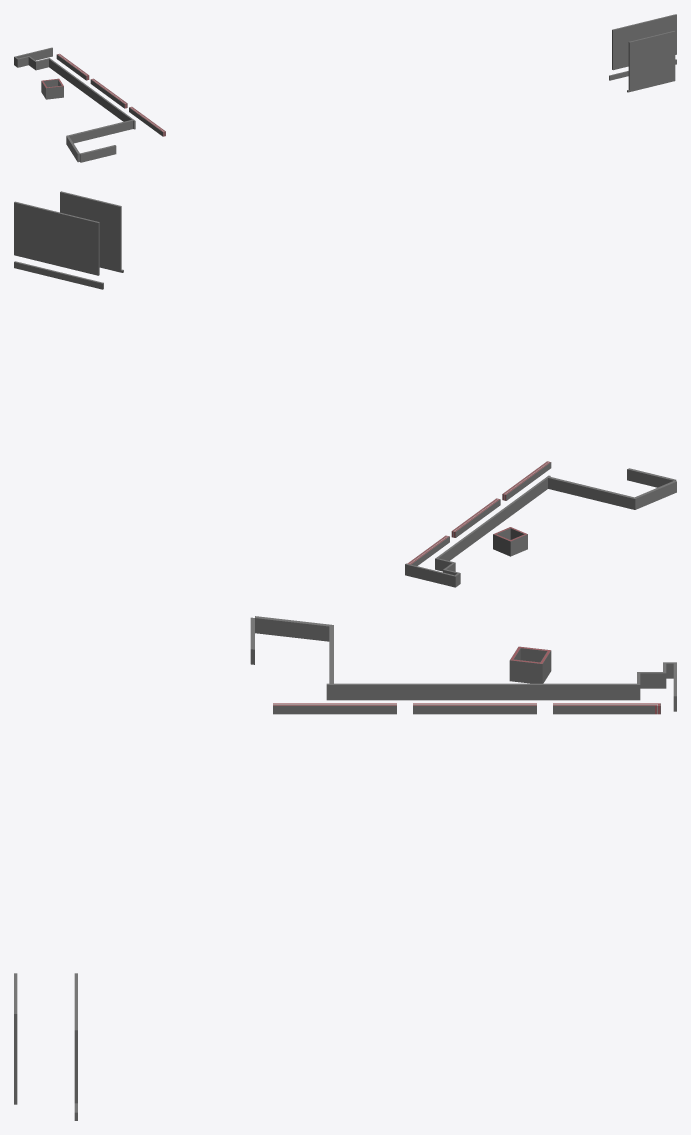
Rendered from Building Model - Excavation and Trench - updated_1kn71nZ$z5OvtVVlfMp9Tn-Nível 0_IfcWallStandardCase.dae.
3 views of the same model, one above another, from view 1: azimuth 30°, elevation 25°; view 2: azimuth 150°, elevation 25°; view 3: azimuth 270°, elevation 25° (orthographic). The views are drawn at different scales.
Parts seen in each view (by area): view 1: 3EzeHkhKD3RhmiSSG4LFpr, 2buzoDKVrBkOdnNcAh5xgz, 2VHu45oBz2GRSQFn0JOUMu, 2Iv1p8RJj3xuasmvOnly0A, 2Or2cuiiX3deGxpYH_duWz, 2Iv1p8RJj3xuasmvOnlyAW, 2VHu45oBz2GRSQFn0JOUD$; view 2: 2buzoDKVrBkOdnNcAh5xgz, 3EzeHkhKD3RhmiSSG4LFpr, 2VHu45oBz2GRSQFn0JOUMu, 2Iv1p8RJj3xuasmvOnly0A, 2Or2cuiiX3deGxpYH_duWz, 2VHu45oBz2GRSQFn0JOUD$; view 3: 2VHu45oBz2GRSQFn0JOUMu, 2Iv1p8RJj3xuasmvOnly0A, 2Iv1p8RJj3xuasmvOnlyD_.
Boxes of the visible parts, x1=… form: 3EzeHkhKD3RhmiSSG4LFpr: x1=627, y1=31, x2=675, y2=92; 2buzoDKVrBkOdnNcAh5xgz: x1=609, y1=14, x2=676, y2=80; 2VHu45oBz2GRSQFn0JOUMu: x1=49, y1=58, x2=135, y2=129; 2Iv1p8RJj3xuasmvOnly0A: x1=56, y1=53, x2=165, y2=136; 2Or2cuiiX3deGxpYH_duWz: x1=66, y1=119, x2=134, y2=144; 2Iv1p8RJj3xuasmvOnlyAW: x1=80, y1=145, x2=116, y2=162; 2VHu45oBz2GRSQFn0JOUD$: x1=16, y1=47, x2=52, y2=60; 2buzoDKVrBkOdnNcAh5xgz: x1=14, y1=201, x2=103, y2=289; 3EzeHkhKD3RhmiSSG4LFpr: x1=60, y1=191, x2=123, y2=272; 2VHu45oBz2GRSQFn0JOUMu: x1=436, y1=475, x2=550, y2=560; 2Iv1p8RJj3xuasmvOnly0A: x1=407, y1=461, x2=551, y2=565; 2Or2cuiiX3deGxpYH_duWz: x1=546, y1=476, x2=637, y2=509; 2VHu45oBz2GRSQFn0JOUD$: x1=405, y1=563, x2=453, y2=586; 2VHu45oBz2GRSQFn0JOUMu: x1=326, y1=683, x2=636, y2=700; 2Iv1p8RJj3xuasmvOnly0A: x1=273, y1=703, x2=660, y2=714; 2Iv1p8RJj3xuasmvOnlyD_: x1=255, y1=616, x2=329, y2=641.
Bounding box in the file's own units: 50.42 × 28.85 × 4.35.
